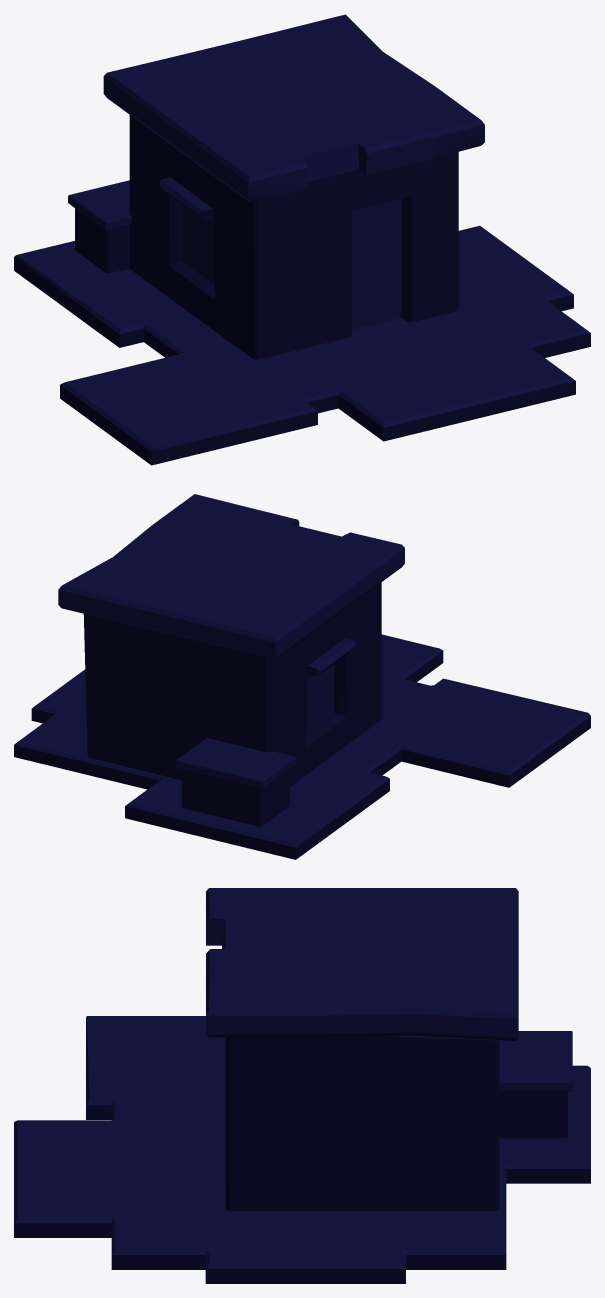
Rendered from house_big.FBX.
3 renders of one model, top to bottom at view 1: azimuth 30°, elevation 25°; view 2: azimuth 150°, elevation 25°; view 3: azimuth 270°, elevation 25°, orthographic. The views are drawn at different scales.
Parts seen in each view (by area): view 1: Box009, Box018, Box015; view 2: Box009, Box018, Box015; view 3: Box009, Box018, Box015.
Boxes of the visible parts, box(x1,y1,x2,y2) form: Box009: box(103, 14, 484, 359); Box018: box(14, 225, 590, 465); Box015: box(68, 180, 131, 273); Box009: box(58, 494, 404, 786); Box018: box(14, 634, 590, 859); Box015: box(175, 738, 296, 826); Box009: box(206, 888, 518, 1211); Box018: box(14, 1016, 590, 1283); Box015: box(499, 1031, 572, 1138).
Bounding box in the file's own units: 46.36 × 19.4 × 44.94.
